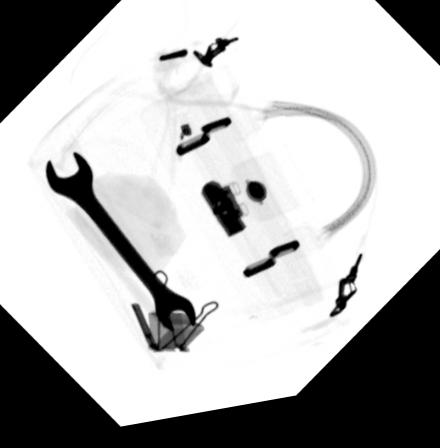Wrench: (43, 153, 197, 339)
